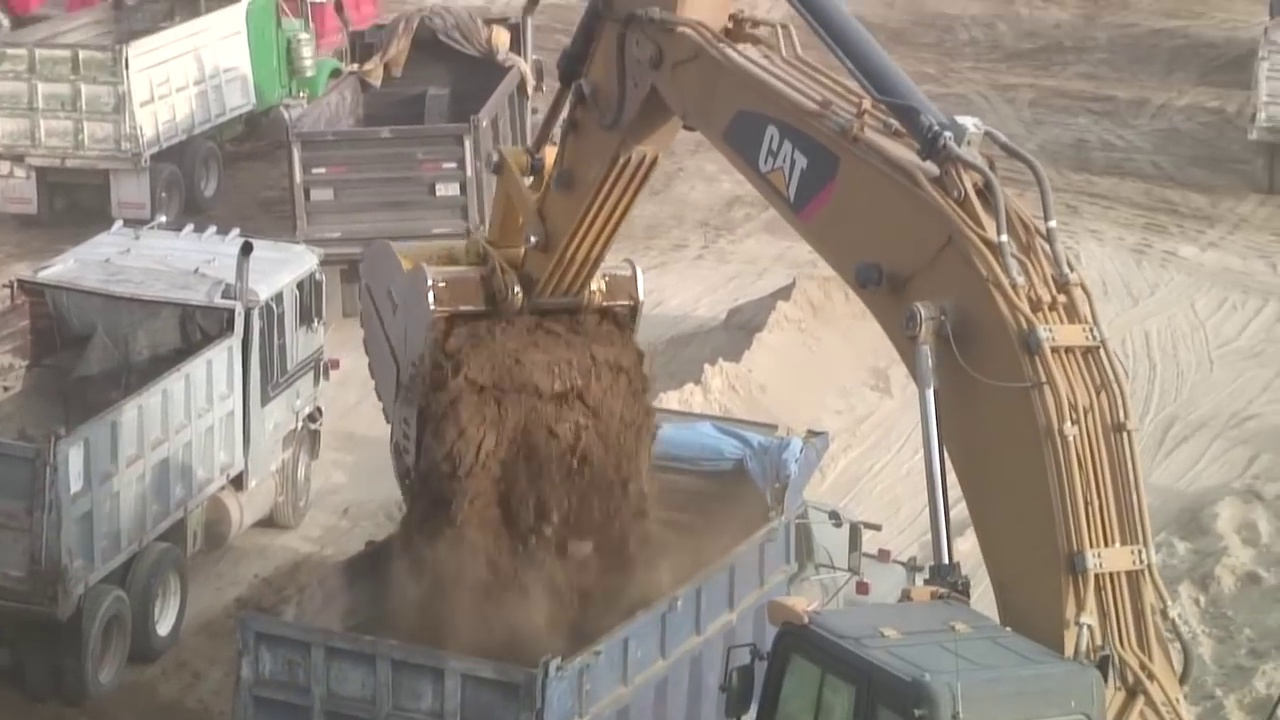excavator: (362, 3, 1201, 718)
truck: (242, 404, 832, 715), (5, 222, 330, 692), (3, 4, 351, 220), (278, 14, 543, 272)
